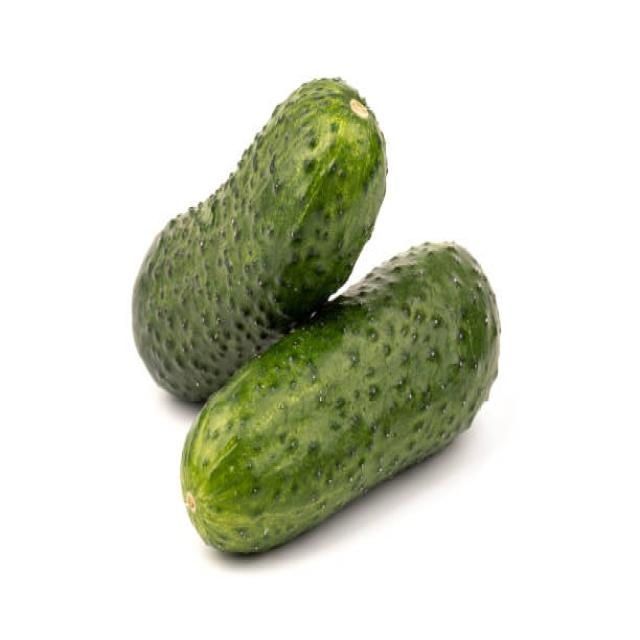cucumber: (179, 242, 502, 557), (132, 76, 387, 400)
